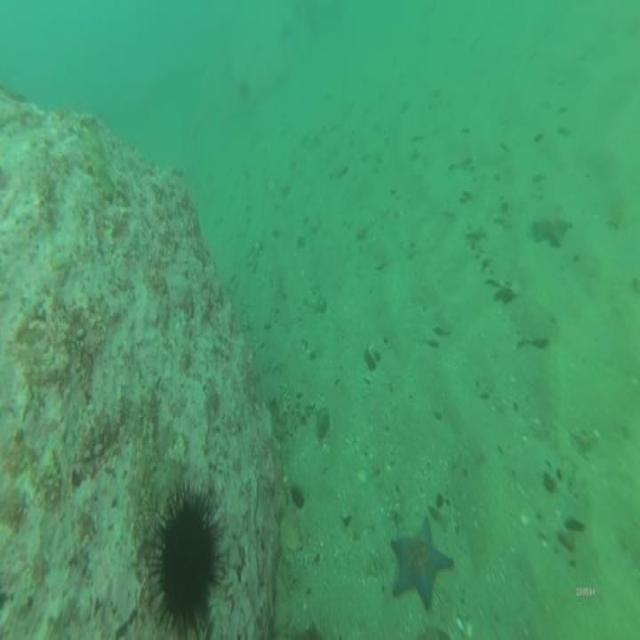echinus: (154, 485, 221, 635)
holothurian: (81, 112, 114, 202)
starfish: (390, 512, 455, 612), (532, 199, 572, 247)
